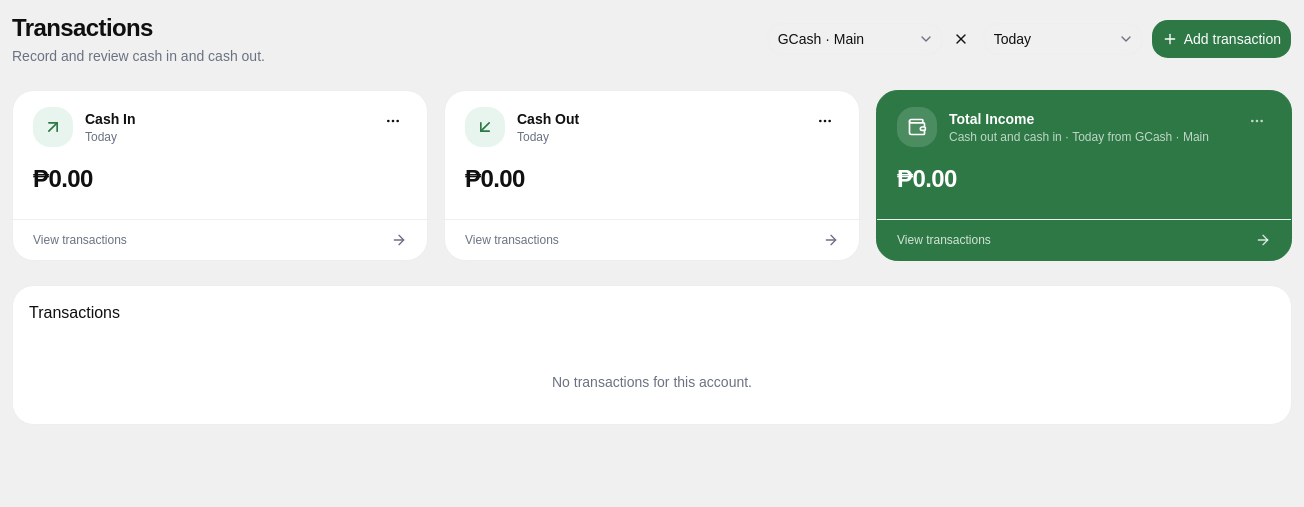
Test: Transactions page account filter › clears the filter with the clear button
Click the button named "Clear account filter" at point(961, 39), box 947,25 -> 975,53
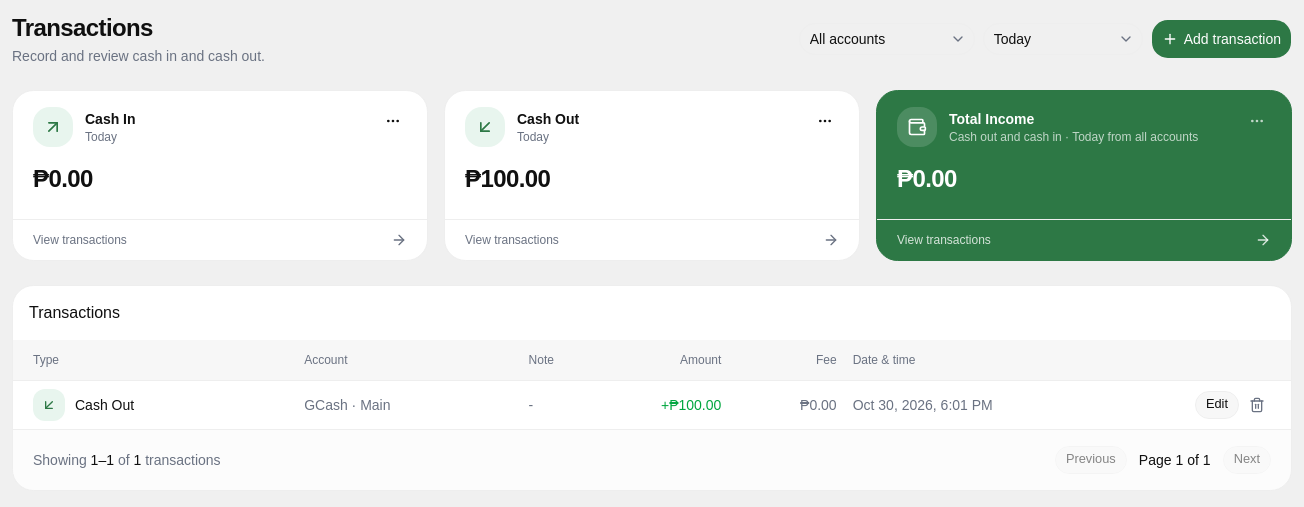
Check: the text "+₱100.00" is shown, box 562,380 -> 729,428
